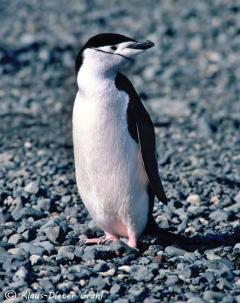chinstrap: (52, 28, 190, 254)
